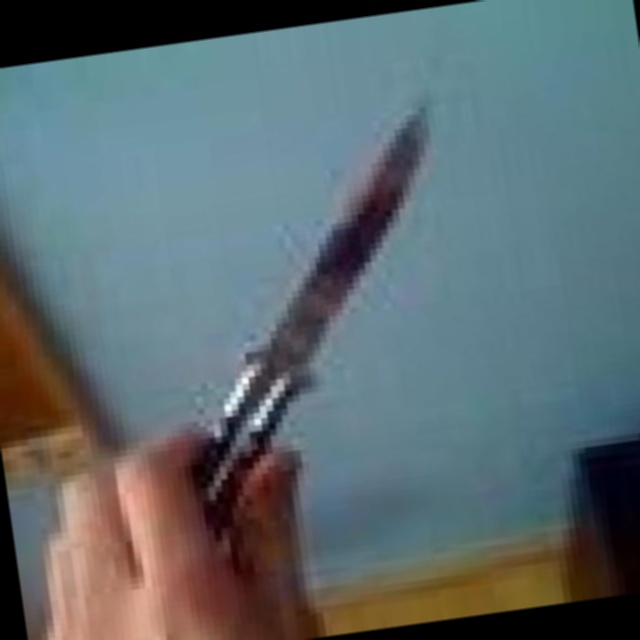Sharp-Object: (154, 112, 481, 538)
